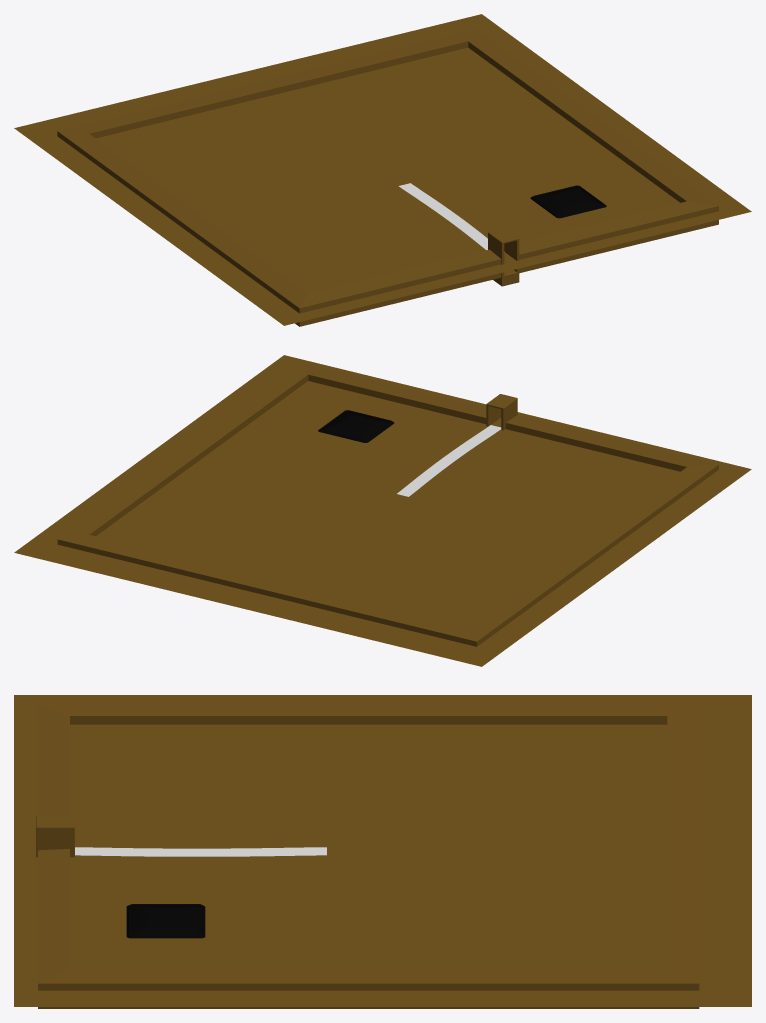
The model's file is Ground0.fbx.
3 renders of one model, top to bottom at view 1: azimuth 30°, elevation 25°; view 2: azimuth 150°, elevation 25°; view 3: azimuth 270°, elevation 25°, orthographic. The views are drawn at different scales.
Visible parts, largest first — view 1: Plane.001, Cube.018, Cube.019, Cube.016, NurbsPath.012; view 2: Plane.001, Cube.018, Cube.019, NurbsPath.012, Cube.016; view 3: Plane.001, Cube.018, Cube.019, NurbsPath.012, Cube.016.
Part boxes in pixels (x1,y1,x2,y2): Plane.001: [14, 14, 751, 325]; Cube.018: [57, 29, 718, 326]; Cube.019: [530, 185, 606, 218]; Cube.016: [488, 228, 519, 286]; NurbsPath.012: [398, 183, 487, 250]; Plane.001: [14, 355, 751, 666]; Cube.018: [57, 362, 718, 646]; Cube.019: [318, 410, 394, 442]; NurbsPath.012: [397, 425, 501, 496]; Cube.016: [486, 394, 517, 430]; Plane.001: [14, 695, 751, 1006]; Cube.018: [38, 704, 699, 1008]; Cube.019: [126, 904, 205, 938]; NurbsPath.012: [75, 847, 326, 856]; Cube.016: [36, 815, 74, 857].
Size of the model in its own units: 24243 by 3195 by 24243.
